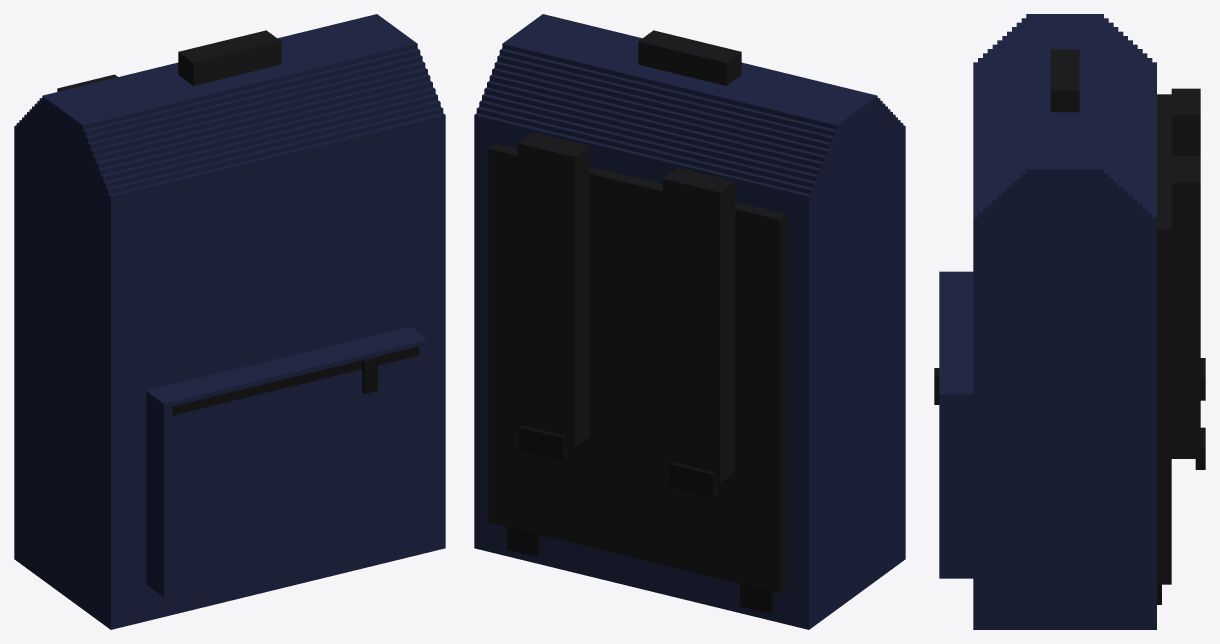
Rendered from backpack.glb.
The picture shows the model from 3 angles, left to right: view 1: azimuth 30°, elevation 25°; view 2: azimuth 150°, elevation 25°; view 3: azimuth 270°, elevation 25°; orthographic projection. The views are drawn at different scales.
Visible parts, largest first — view 1: backpack:compound; view 2: backpack:compound; view 3: backpack:compound.
Boxes of the visible parts, <box> form: backpack:compound: <box>14,14,445,629</box>; backpack:compound: <box>474,14,905,629</box>; backpack:compound: <box>934,14,1205,629</box>.
Bounding box in the file's own units: 0.304 × 0.44 × 0.224.
